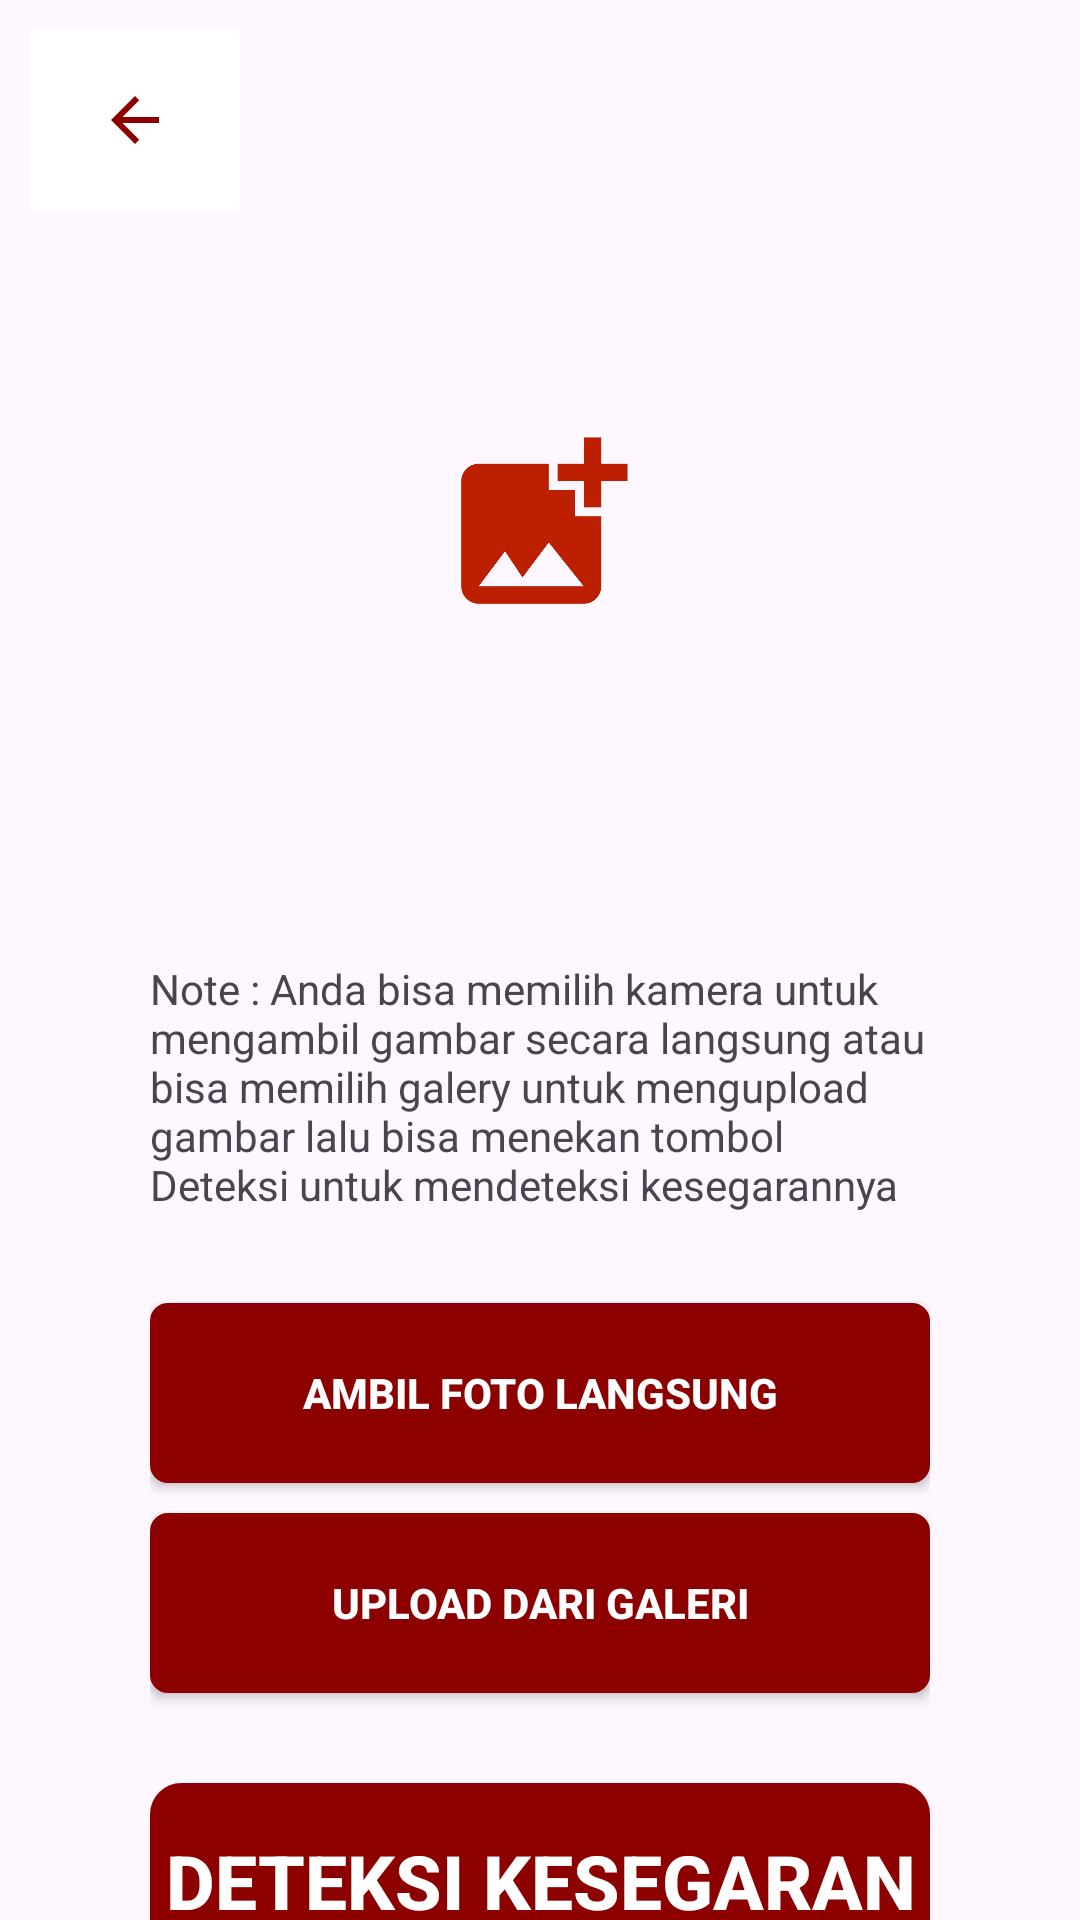

Locate icon controls on the screen. Image size 1080w x 1920h, boxes as (x1, y1, x2, y2).
addphoto: (461, 437, 628, 604)
arrow back: (111, 96, 159, 144)
